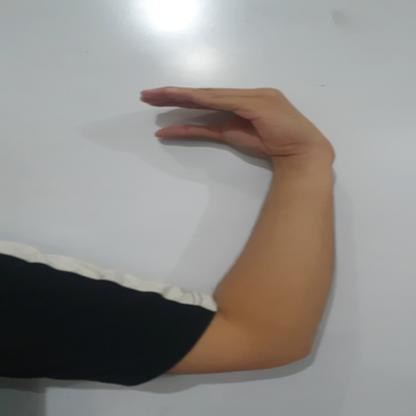Pagi: (136, 84, 340, 167)
